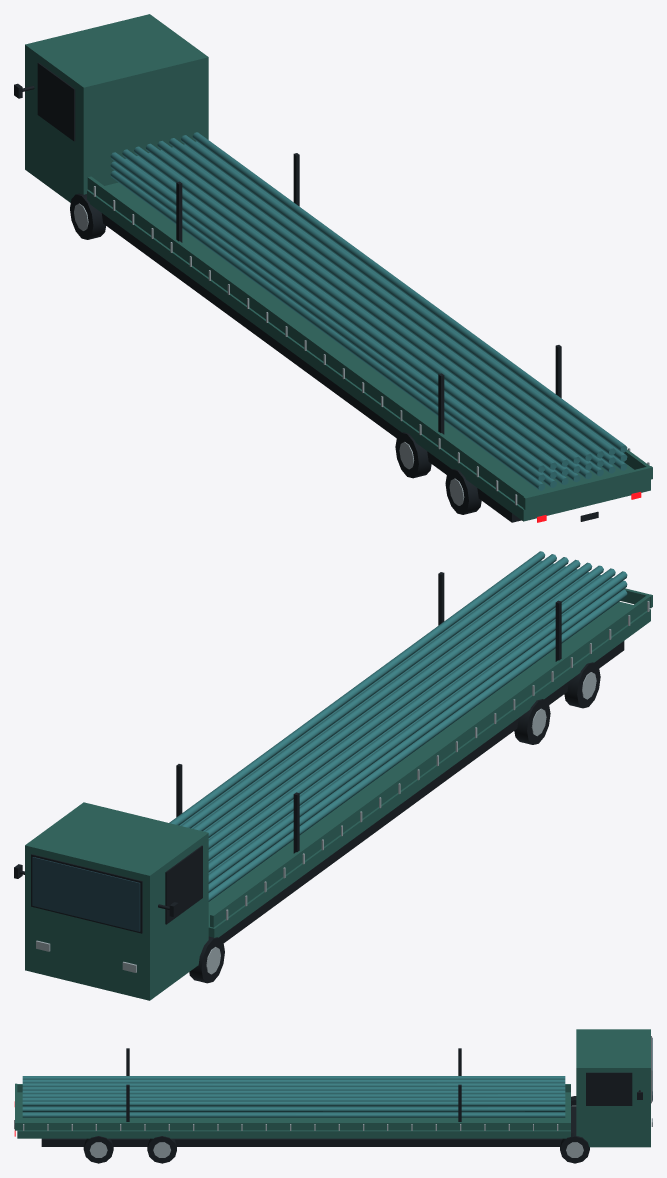
The model's file is traffic-rebar.glb.
The picture shows the model from 3 angles, top to bottom: view 1: azimuth 30°, elevation 25°; view 2: azimuth 150°, elevation 25°; view 3: azimuth 270°, elevation 25°; orthographic projection. The views are drawn at different scales.
Visible parts, largest first — view 1: lod_accent, lod_body, lod_dark, lod_metal; view 2: lod_accent, lod_body, lod_dark, lod_glass, lod_metal; view 3: lod_accent, lod_body, lod_dark, lod_metal.
Part boxes in pixels (left/top/right/bottom): lod_accent: left=110, top=132, right=627, bottom=490; lod_body: left=25, top=14, right=652, bottom=521; lod_dark: left=14, top=62, right=598, bottom=522; lod_metal: left=74, top=186, right=649, bottom=505; lod_accent: left=169, top=551, right=627, bottom=901; lod_body: left=25, top=588, right=652, bottom=1000; lod_dark: left=14, top=572, right=624, bottom=983; lod_glass: left=32, top=857, right=140, bottom=931; lod_metal: left=36, top=601, right=649, bottom=974; lod_accent: left=22, top=1076, right=565, bottom=1117; lod_body: left=15, top=1029, right=650, bottom=1147; lod_dark: left=14, top=1036, right=651, bottom=1163; lod_metal: left=23, top=1091, right=652, bottom=1157.
Size of the model in its own units: 3.13 by 2.8 by 17.11.
